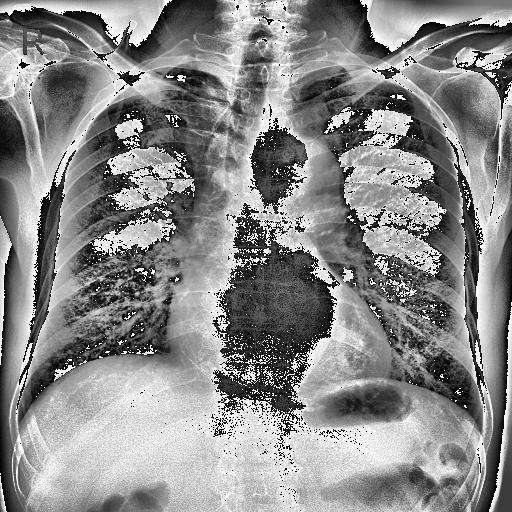0- Aortic enlargement: (248, 129, 348, 234), (251, 136, 346, 220), (270, 134, 344, 203)
5- ILD: (27, 231, 178, 406), (356, 243, 476, 400), (46, 246, 158, 369), (378, 266, 482, 398), (366, 254, 460, 388), (90, 242, 168, 348)
